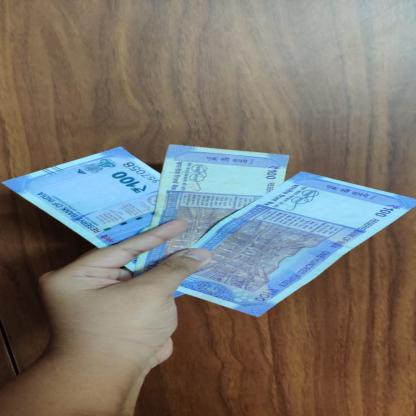New100Back: (176, 170, 416, 318), (136, 144, 291, 276)
New100Front: (0, 146, 187, 300)
